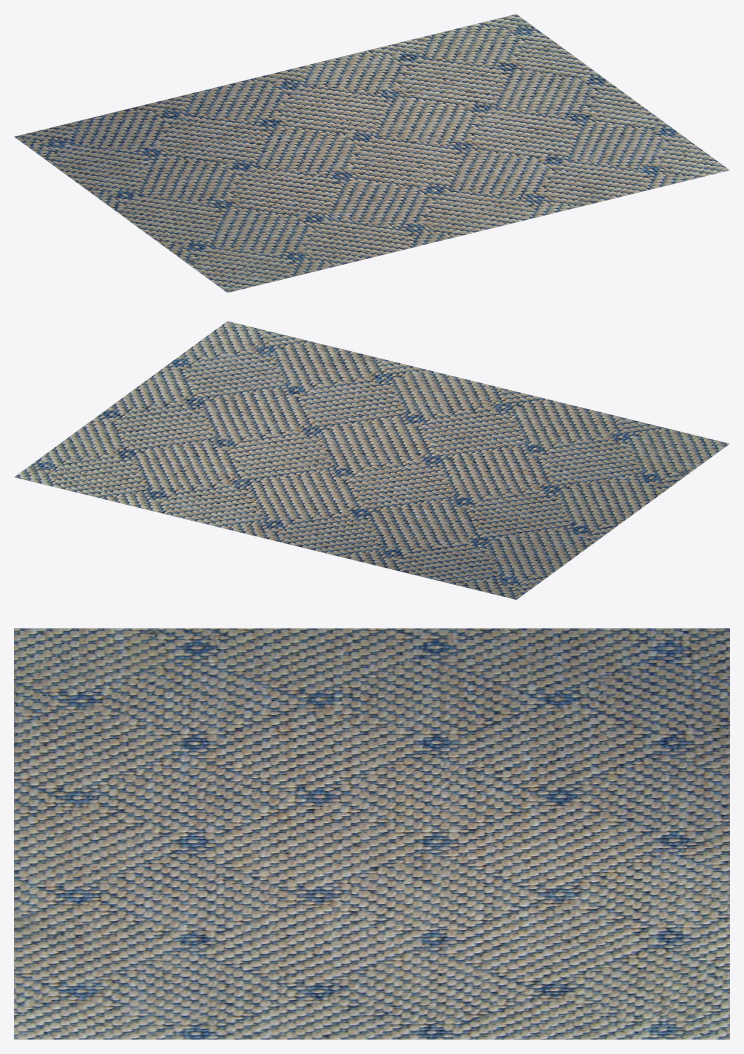
Rendered from kleedje.fbx.
3 views of the same model, one above another, from view 1: azimuth 30°, elevation 25°; view 2: azimuth 150°, elevation 25°; view 3: azimuth 270°, elevation 25° (orthographic). The views are drawn at different scales.
Visible parts, largest first — view 1: pPlane9; view 2: pPlane9; view 3: pPlane9.
Part boxes in pixels (x1,y1,x2,y2): pPlane9: [14, 14, 729, 292]; pPlane9: [14, 321, 729, 599]; pPlane9: [14, 628, 729, 1039].
Bounding box in the file's own units: 4.21 × 0 × 3.1.
Materials: 1 (1 with a texture image).
